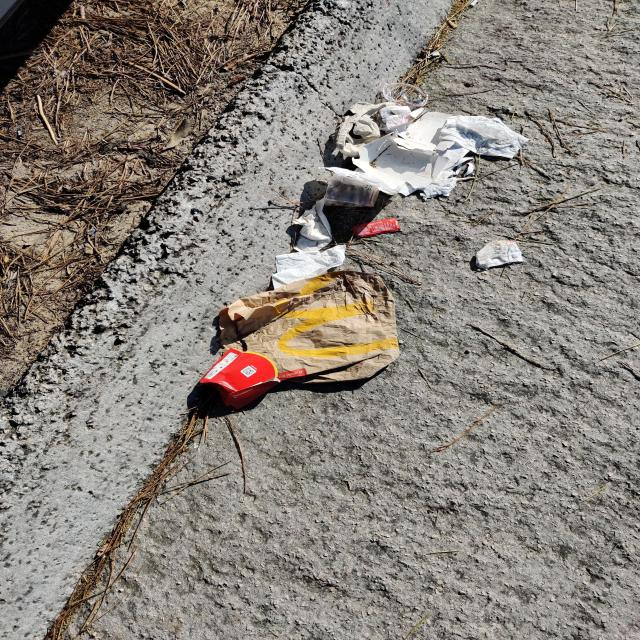litter: (218, 271, 400, 385), (354, 111, 456, 190), (197, 346, 279, 411), (325, 177, 379, 204), (353, 217, 401, 238)
